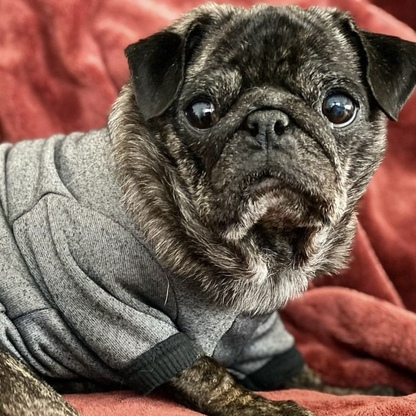Pug: (1, 1, 416, 413)
